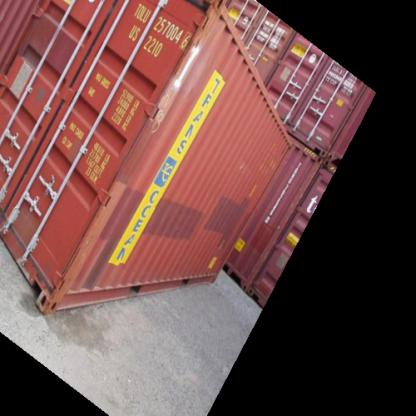Damage: (37, 178, 131, 309), (150, 28, 202, 120), (6, 201, 34, 281)
